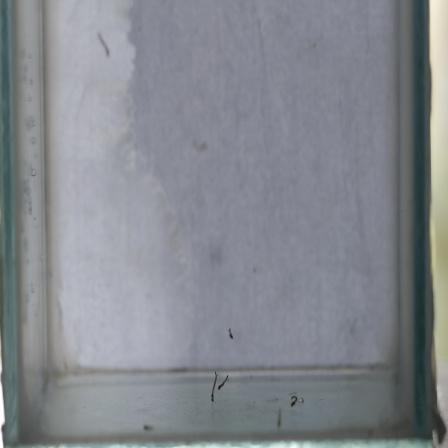Jentik-Nyamuk: (207, 368, 236, 407), (226, 322, 237, 345)
